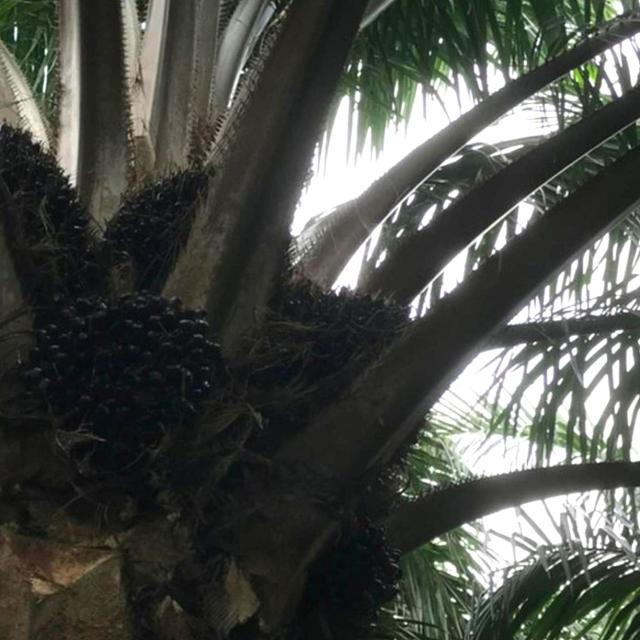almost: (15, 278, 231, 494), (256, 274, 434, 452)
